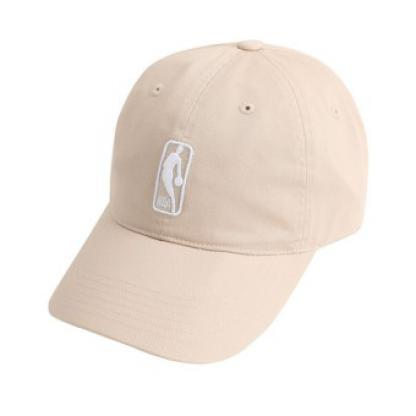cap: (33, 26, 389, 368)
